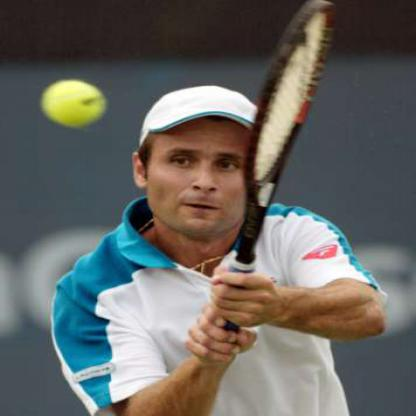face: (147, 89, 266, 237)
